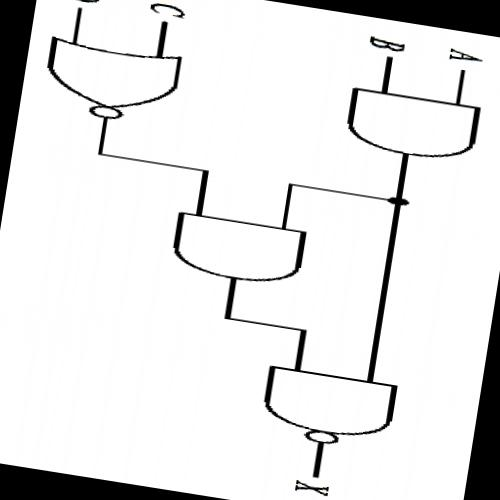and: (332, 79, 492, 174), (158, 204, 319, 297)
nand: (246, 356, 416, 462)
nor: (28, 29, 195, 134)
